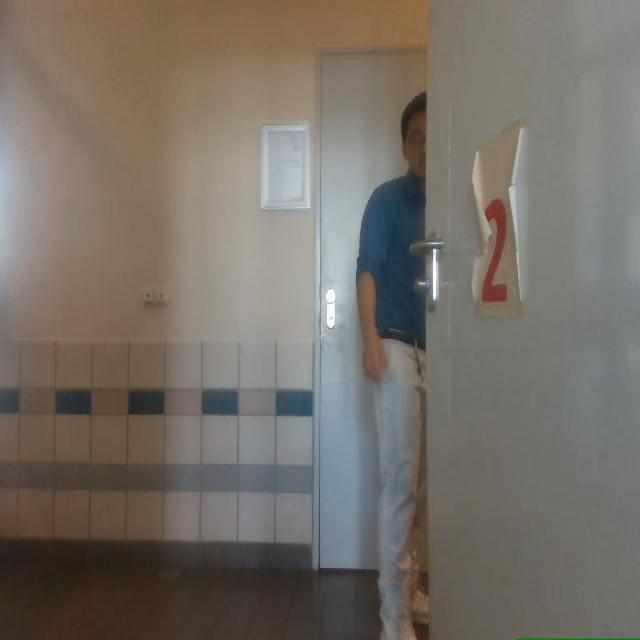humans: (356, 92, 428, 639)
objects: (417, 0, 639, 639)
